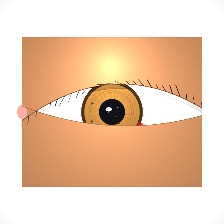hemorrhage_spot: (71, 93, 155, 160)
